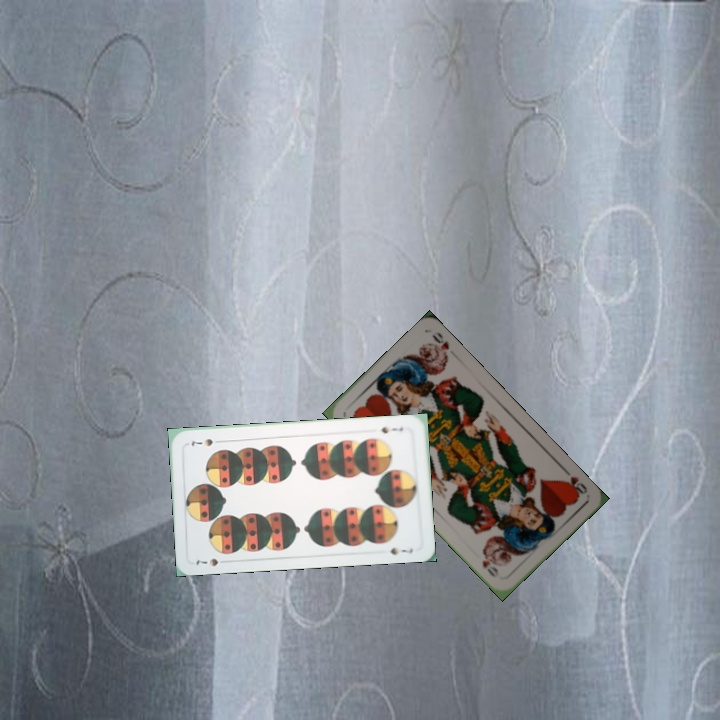HO: (559, 464, 590, 499)
S7: (191, 554, 221, 570), (378, 423, 405, 436)
